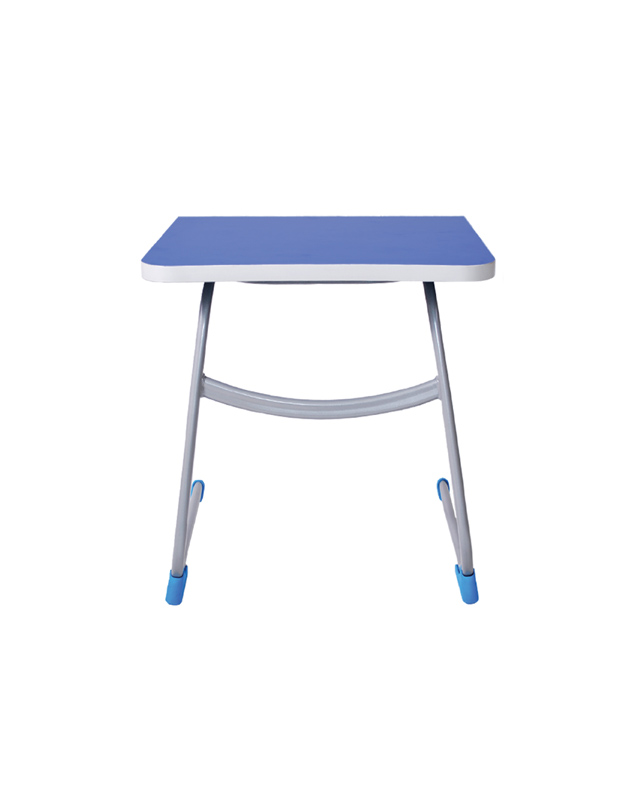m01: (141, 215, 495, 605)
